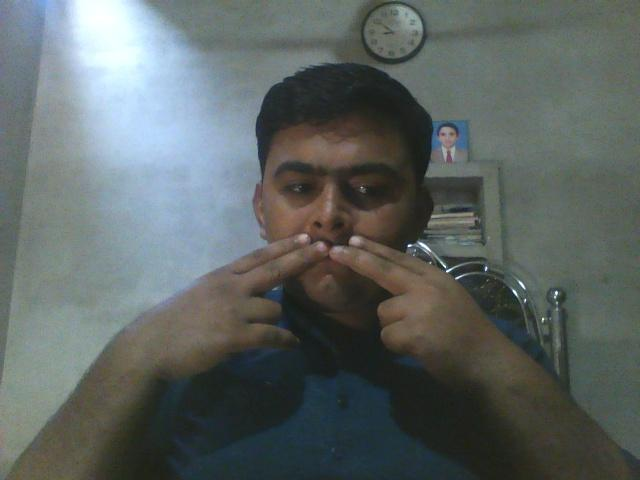Thanks: (232, 212, 433, 332)
